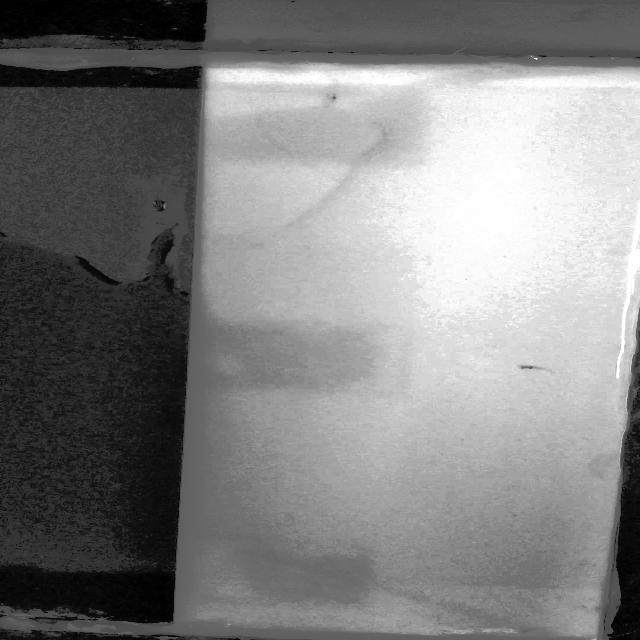shrimp: (516, 361, 558, 380), (318, 90, 347, 108), (502, 624, 534, 636)
